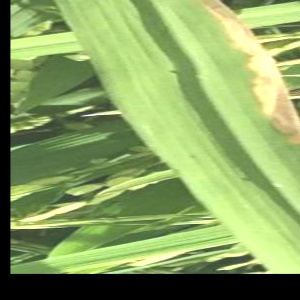Leaf_Blast: (171, 46, 289, 220)
